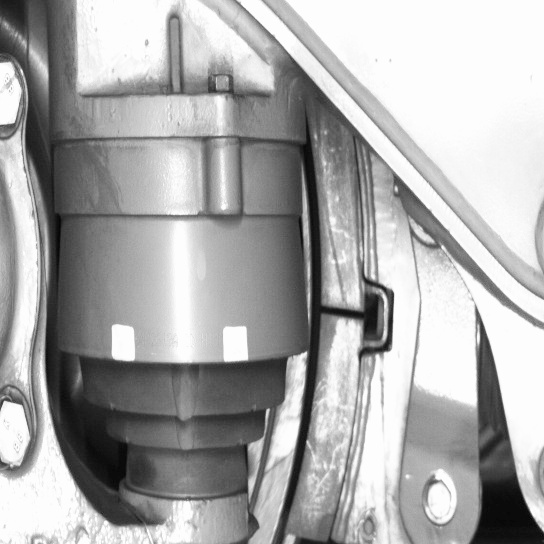KnifeSwitch: (266, 143, 378, 543)
